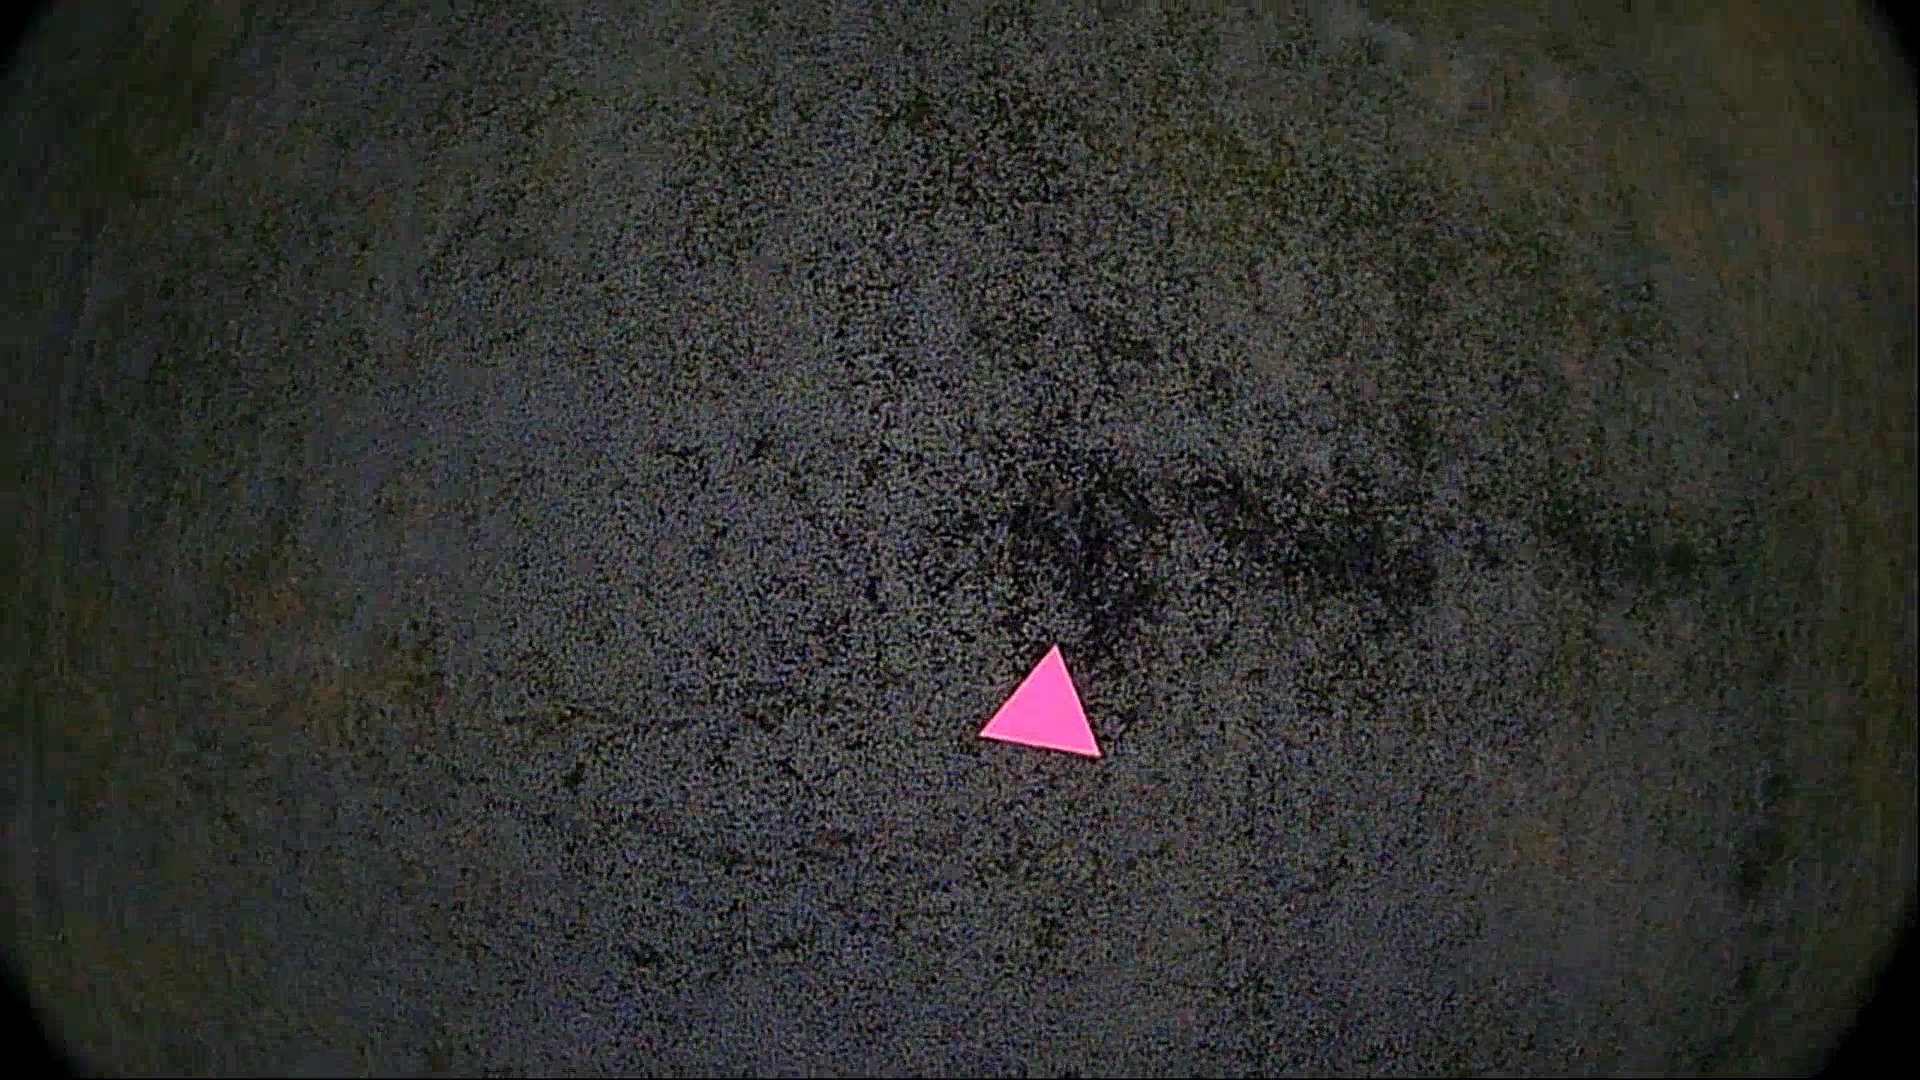triangle: (967, 637, 1114, 770)
